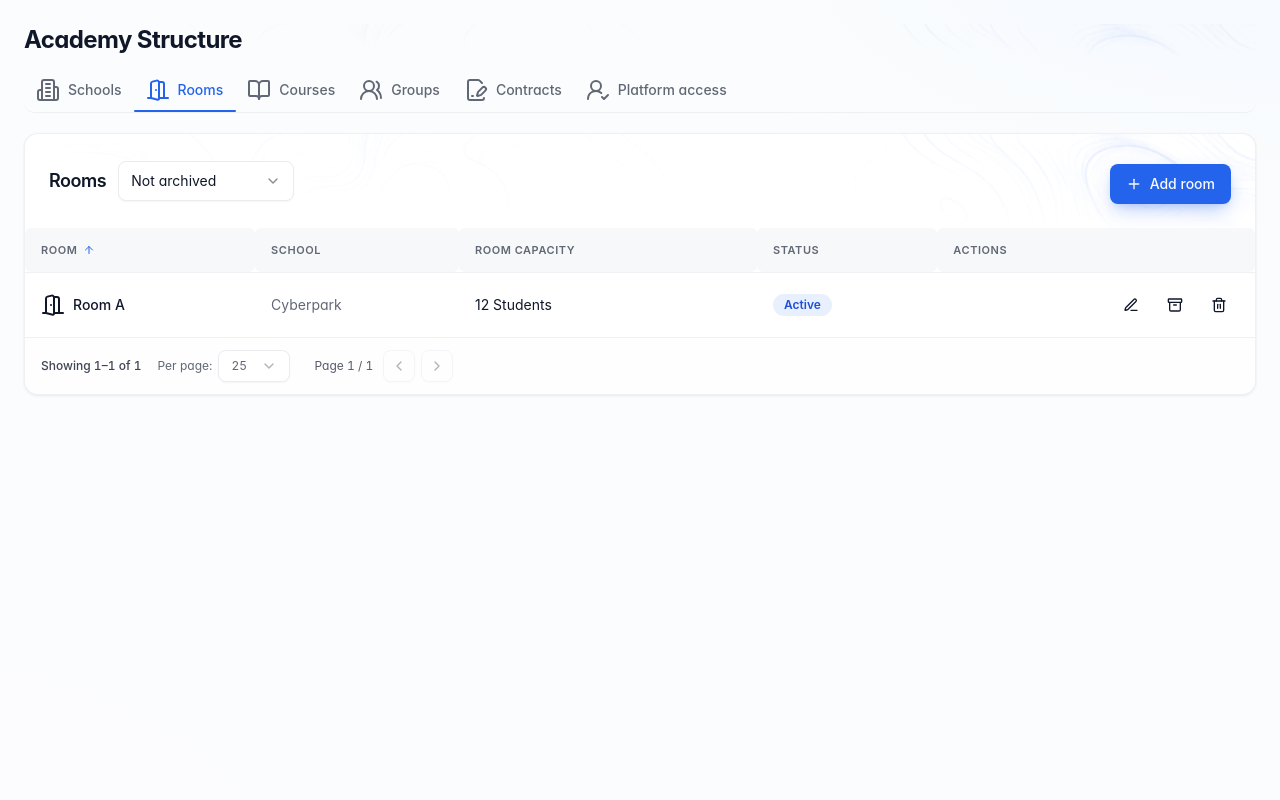
Scenario: academy resource editors › keeps rooms drafts after canceling discard and blocks edits, close and duplicate saves while pending
Click the button named "Edit" at (1131, 304), box left=1111, top=284, right=1151, bottom=324
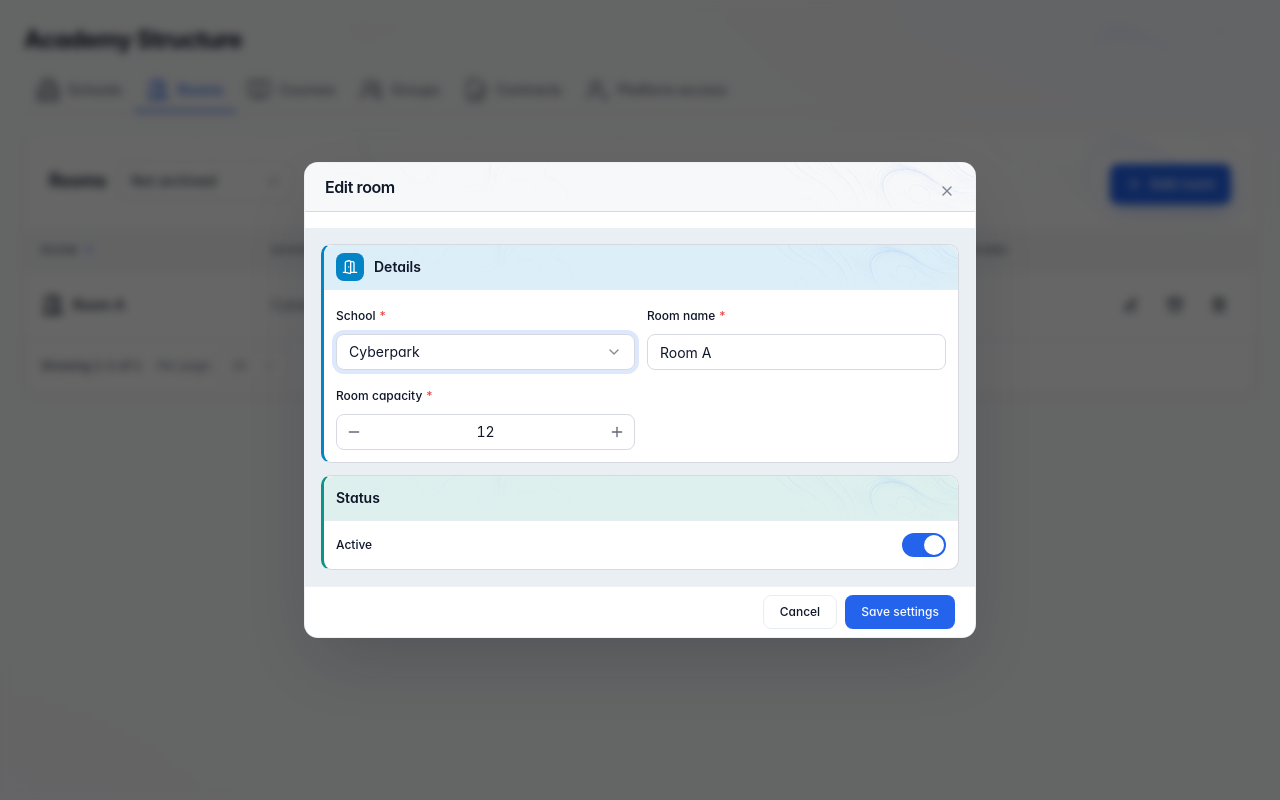
Type " changed" into the field labelled "Room name" at (796, 352), box left=647, top=334, right=946, bottom=370
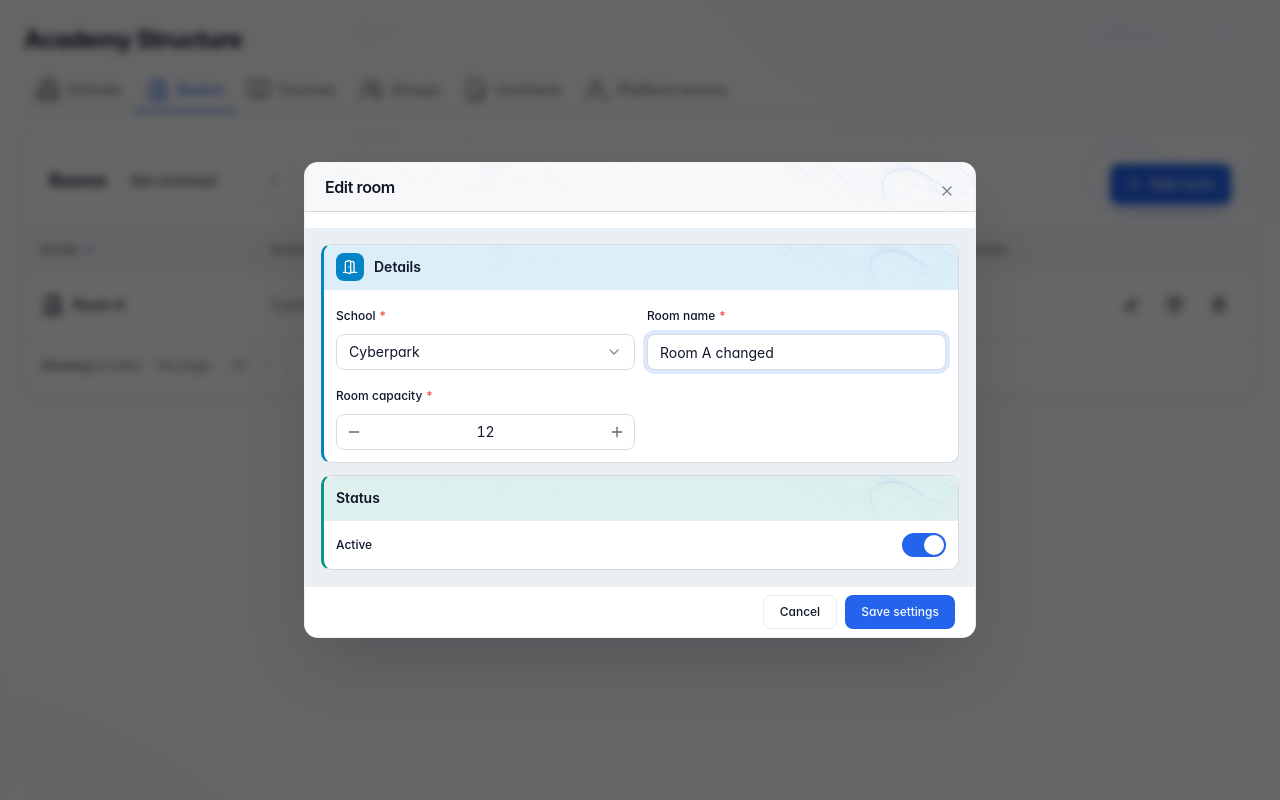
Click the button "Cancel" at (800, 612), box left=763, top=595, right=837, bottom=629
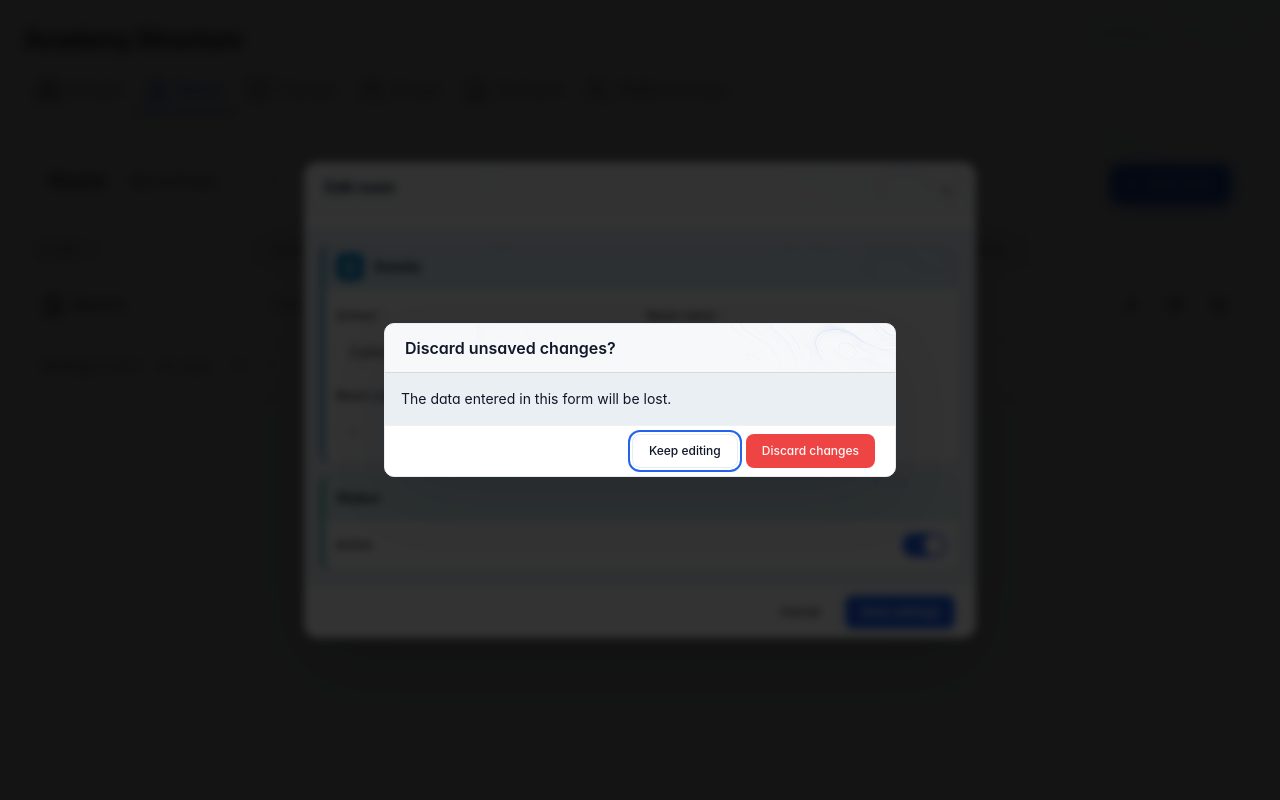
Click the button "Keep editing" at (685, 451), box left=632, top=434, right=738, bottom=468
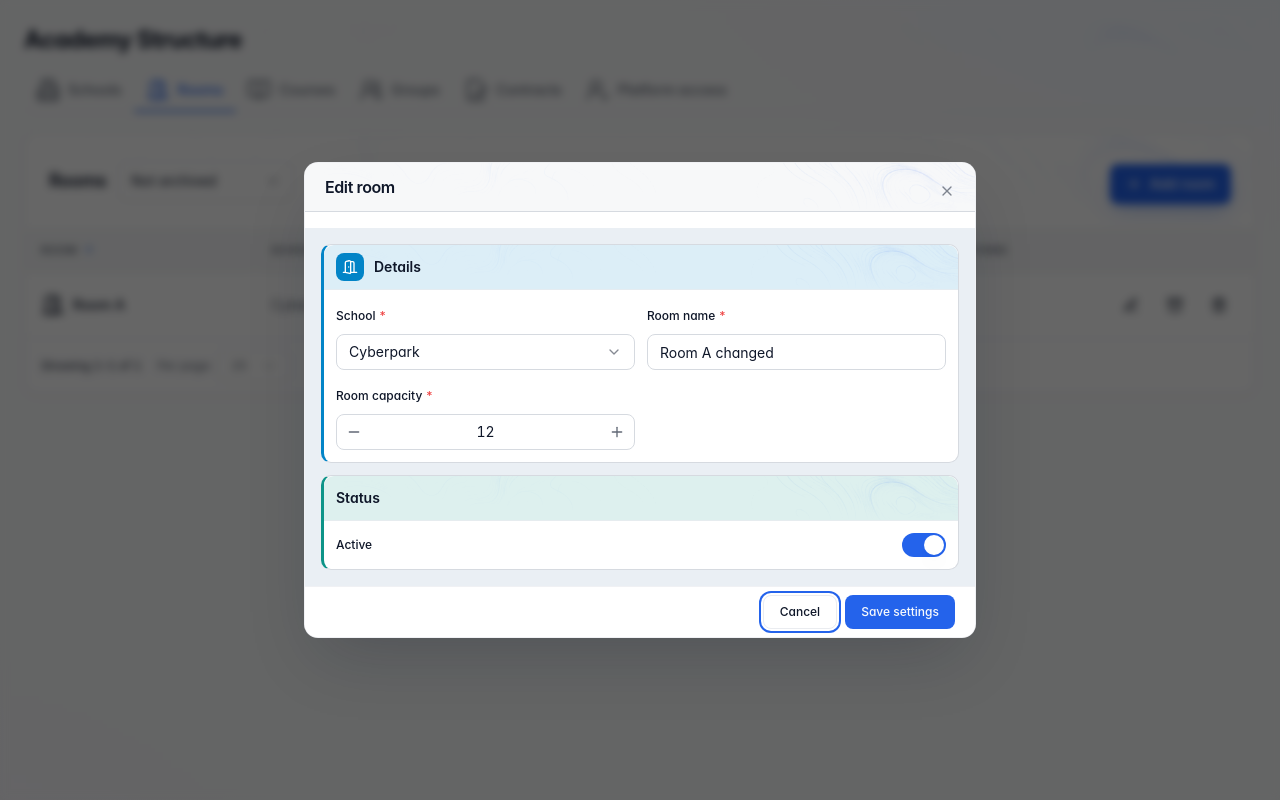
Click the button "Save settings" at (900, 612), box left=845, top=595, right=955, bottom=629
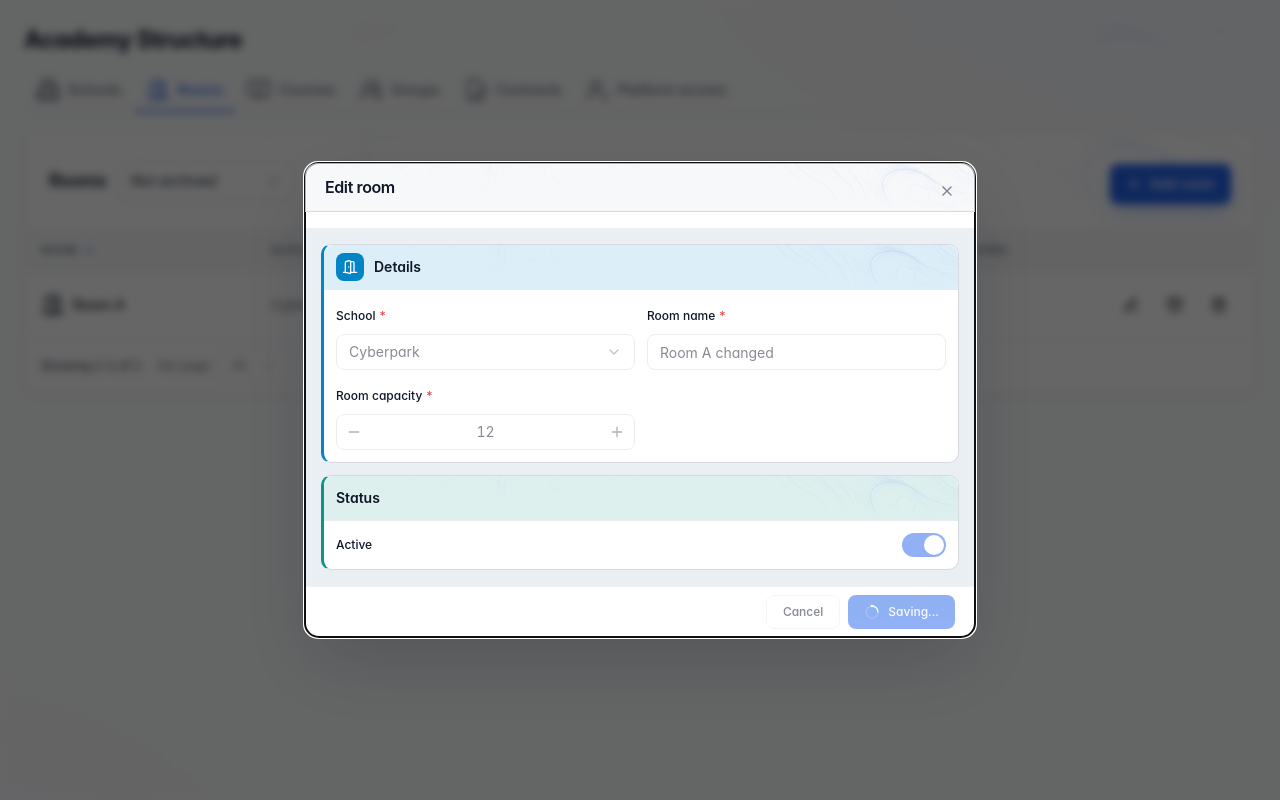
Expected: the field labelled "Room name" is disabled, left=647, top=334, right=946, bottom=370
Expected: the button "Cancel" is disabled, left=766, top=595, right=840, bottom=629
Submit the form, box left=305, top=228, right=975, bottom=637
Submit the form, box left=305, top=228, right=975, bottom=637
Press Escape
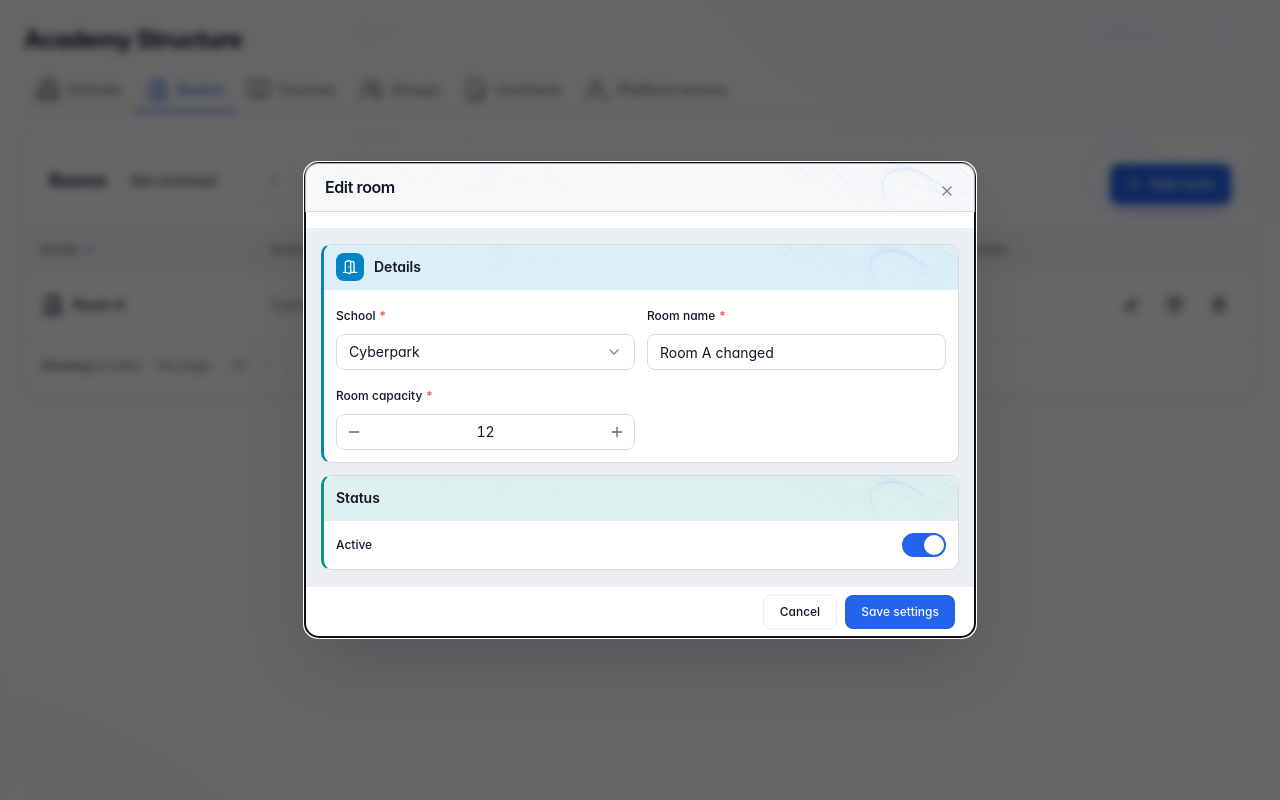
Expected: the field labelled "Room name*" is enabled, left=647, top=334, right=946, bottom=370
